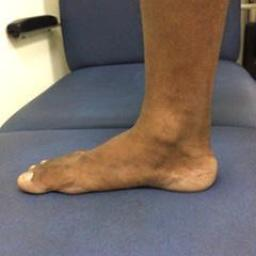Medial View -Right Foot-: (12, 76, 231, 202)
